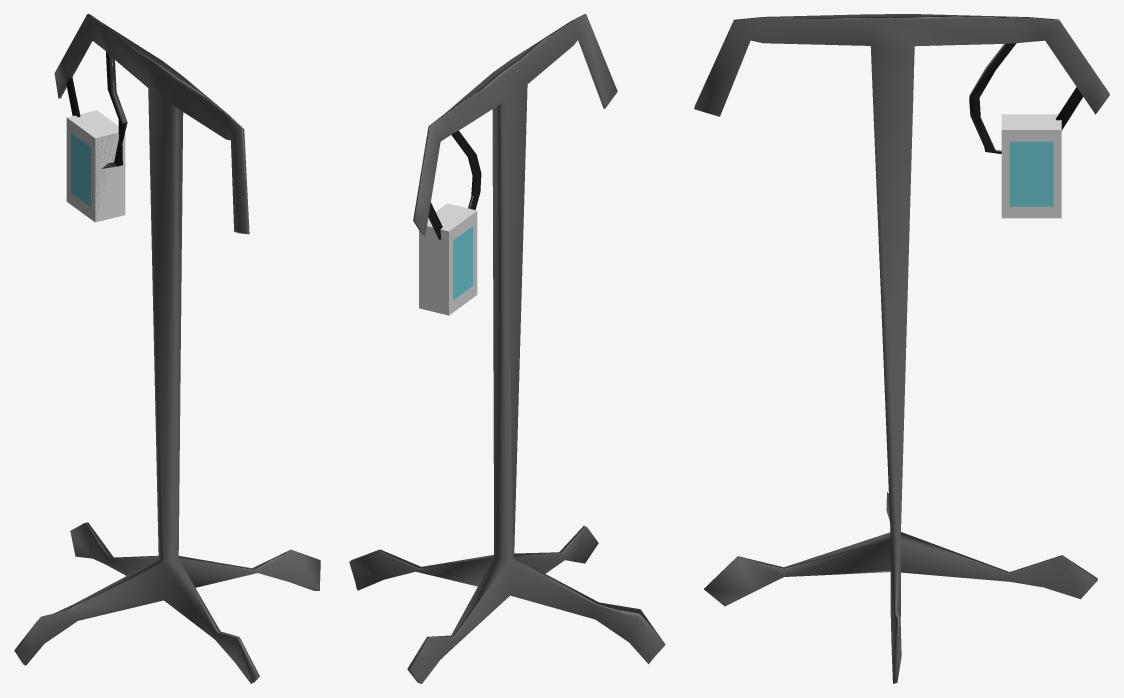
The model's file is Hospital_Drip.fbx.
3 views of the same model, side by side, from view 1: azimuth 30°, elevation 25°; view 2: azimuth 150°, elevation 25°; view 3: azimuth 270°, elevation 25° (orthographic). The views are drawn at different scales.
Parts seen in each view (by area): view 1: Cube; view 2: Cube; view 3: Cube.
Part boxes in pixels (<box>): Cube: <box>14,14,320,683</box>; Cube: <box>349,14,665,683</box>; Cube: <box>694,14,1109,683</box>.
Size of the model in its own units: 312 by 541 by 345.
